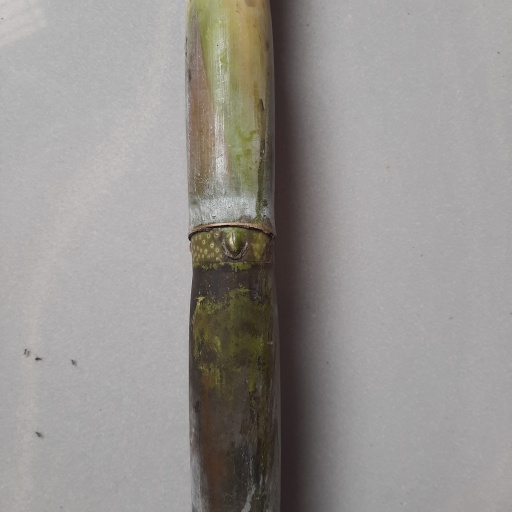Bud: (222, 228, 247, 258)
